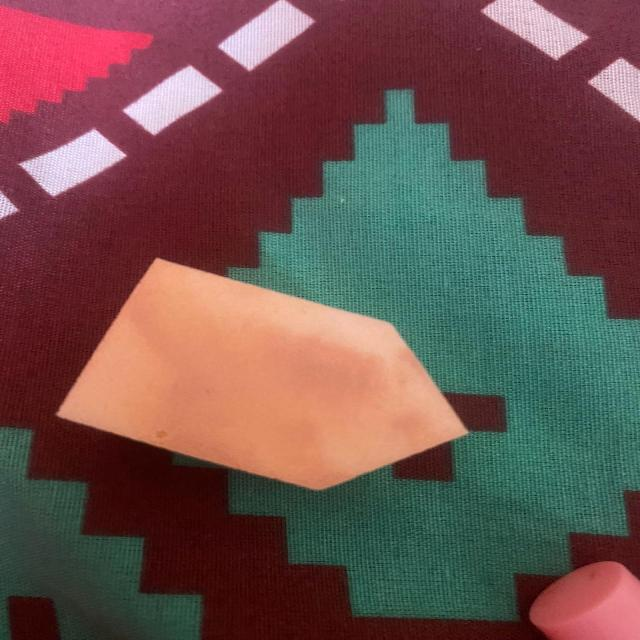beauty blender: (37, 230, 472, 530)
